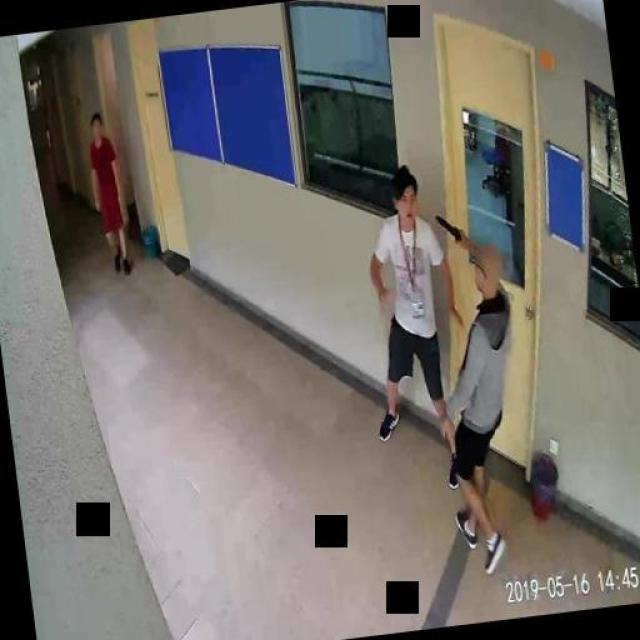gun: (434, 210, 464, 248)
